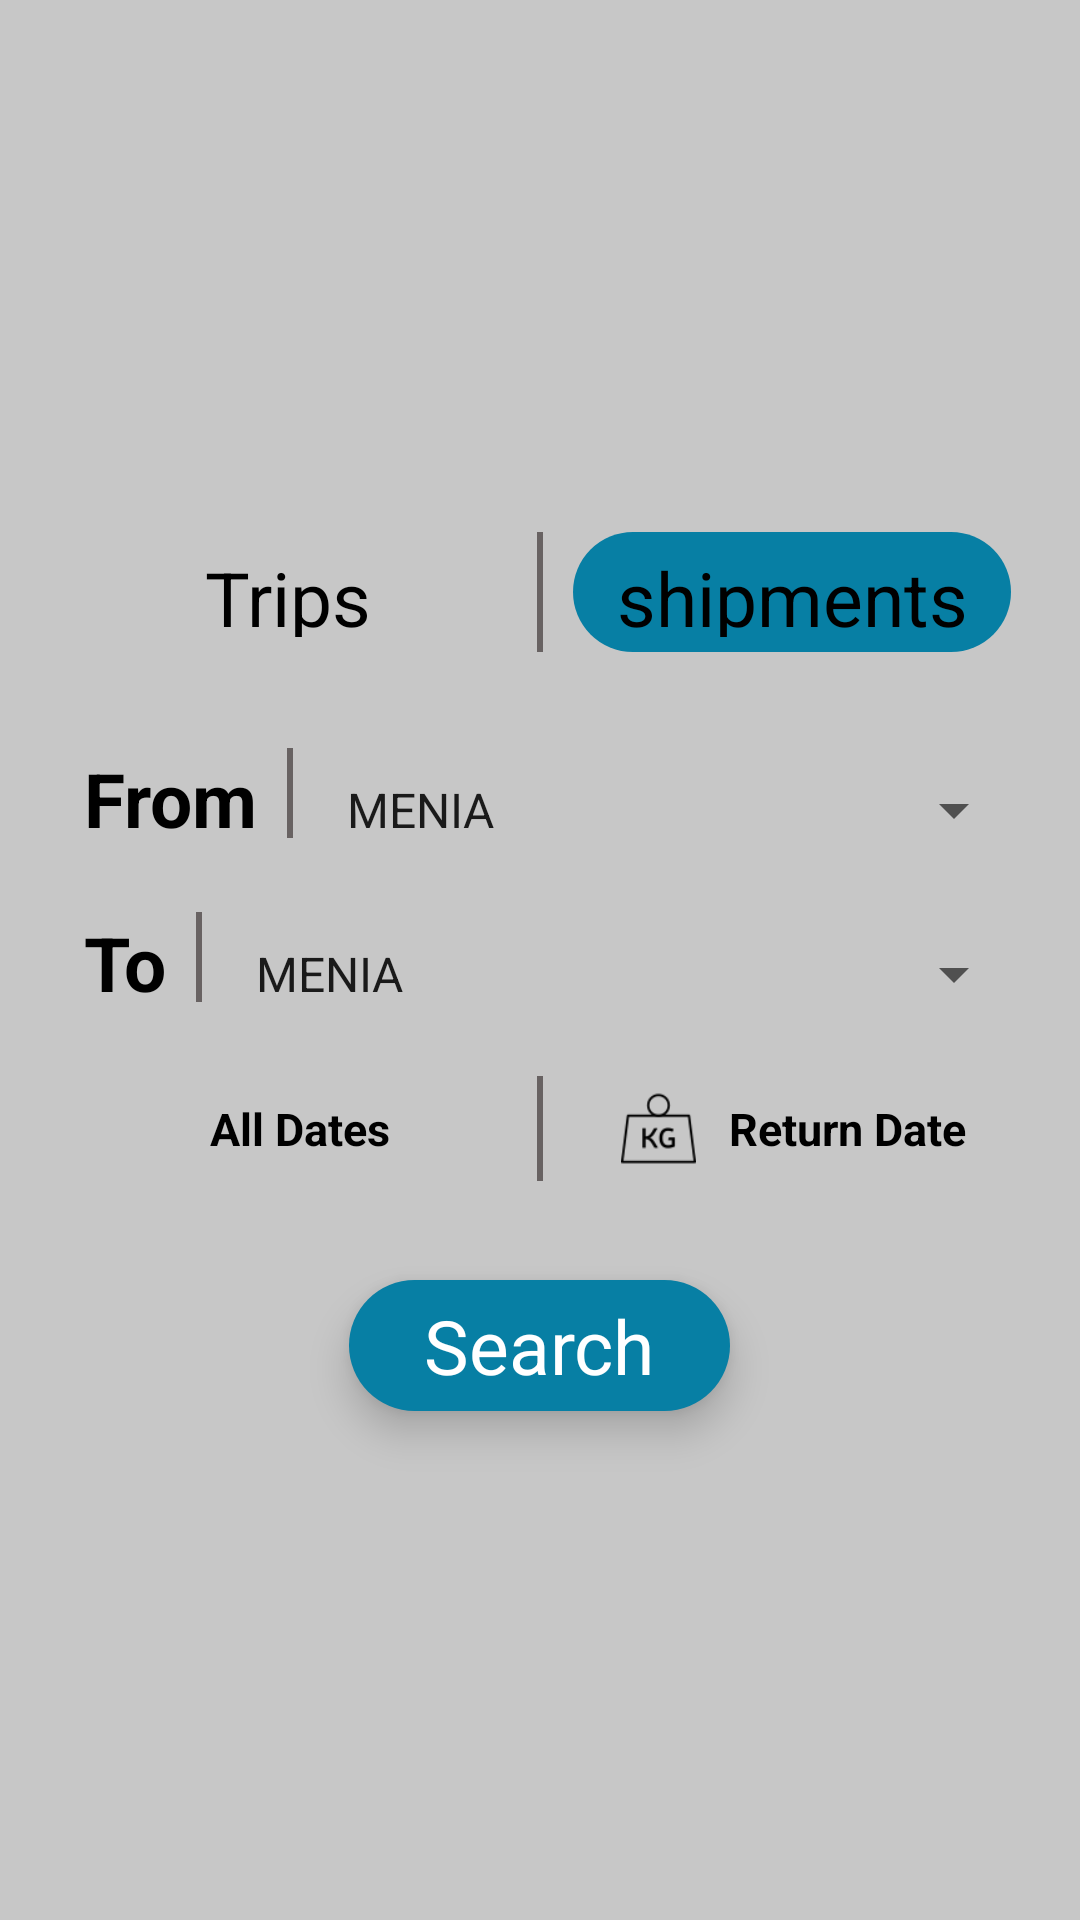

Icon click points for this 1080w x 1920h phone screenshot, format (x=x, y=y):
weight: (x=658, y=1128)
